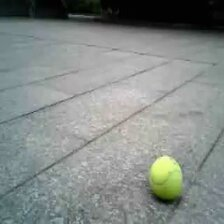tennis: (149, 156, 182, 199)
